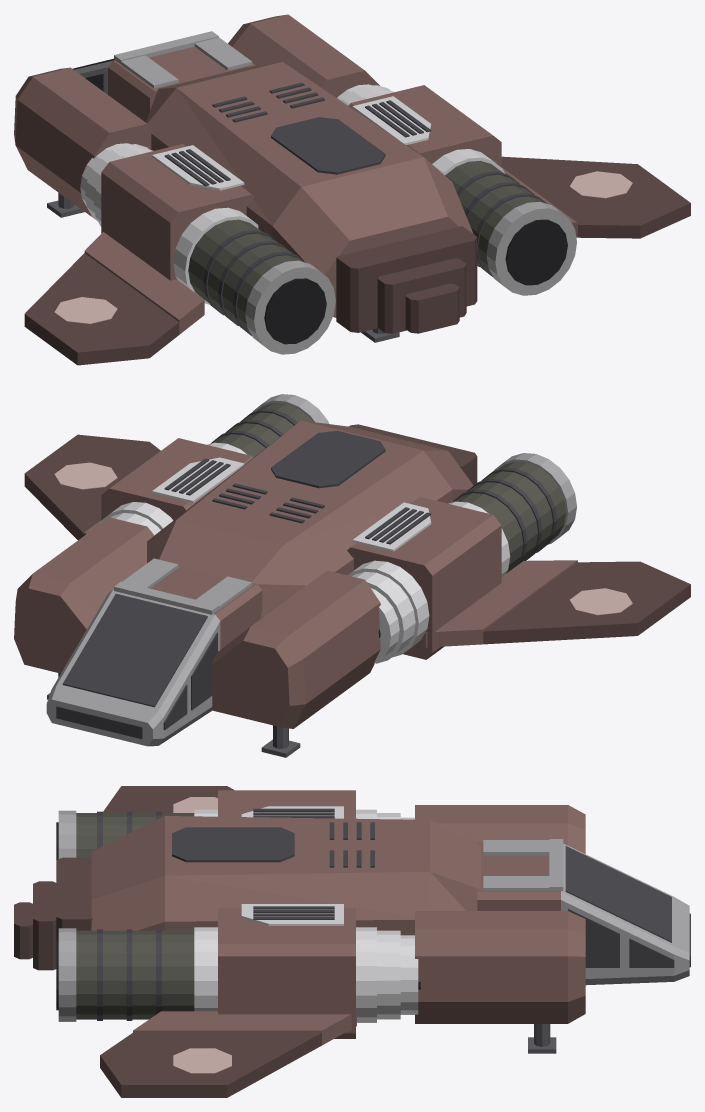
The model's file is vge_salvager_dropship.obj.
3 renders of one model, top to bottom at view 1: azimuth 30°, elevation 25°; view 2: azimuth 150°, elevation 25°; view 3: azimuth 270°, elevation 25°, orthographic.
Visible parts, largest first — view 1: vge_salvager_dropship_0, vge_salvager_dropship_13, vge_salvager_dropship_30, vge_salvager_dropship_44, vge_salvager_dropship_66, vge_salvager_dropship_10, vge_salvager_dropship_14, vge_salvager_dropship_32, vge_salvager_dropship_1, vge_salvager_dropship_52, vge_salvager_dropship_43, vge_salvager_dropship_11 (+20 smaller); view 2: vge_salvager_dropship_0, vge_salvager_dropship_13, vge_salvager_dropship_14, vge_salvager_dropship_30, vge_salvager_dropship_44, vge_salvager_dropship_20, vge_salvager_dropship_16, vge_salvager_dropship_66, vge_salvager_dropship_32, vge_salvager_dropship_43, vge_salvager_dropship_52, vge_salvager_dropship_1 (+21 smaller); view 3: vge_salvager_dropship_0, vge_salvager_dropship_14, vge_salvager_dropship_52, vge_salvager_dropship_66, vge_salvager_dropship_54, vge_salvager_dropship_13, vge_salvager_dropship_16, vge_salvager_dropship_20, vge_salvager_dropship_65, vge_salvager_dropship_1, vge_salvager_dropship_15, vge_salvager_dropship_30 (+23 smaller).
Part boxes in pixels (x1,y1,x2,y2): vge_salvager_dropship_0: [146, 62, 473, 317]; vge_salvager_dropship_13: [14, 67, 154, 216]; vge_salvager_dropship_30: [101, 144, 254, 280]; vge_salvager_dropship_44: [24, 253, 179, 365]; vge_salvager_dropship_66: [501, 156, 690, 238]; vge_salvager_dropship_10: [336, 226, 477, 332]; vge_salvager_dropship_14: [228, 14, 379, 97]; vge_salvager_dropship_32: [188, 219, 302, 332]; vge_salvager_dropship_1: [271, 117, 385, 174]; vge_salvager_dropship_52: [348, 85, 501, 167]; vge_salvager_dropship_43: [84, 232, 204, 334]; vge_salvager_dropship_11: [377, 258, 466, 333]; vge_salvager_dropship_0: [147, 420, 473, 618]; vge_salvager_dropship_13: [212, 570, 380, 728]; vge_salvager_dropship_14: [14, 517, 154, 673]; vge_salvager_dropship_30: [347, 497, 501, 659]; vge_salvager_dropship_44: [483, 561, 690, 644]; vge_salvager_dropship_20: [62, 593, 207, 707]; vge_salvager_dropship_16: [46, 589, 220, 746]; vge_salvager_dropship_66: [24, 434, 160, 539]; vge_salvager_dropship_32: [454, 461, 566, 573]; vge_salvager_dropship_43: [425, 560, 577, 647]; vge_salvager_dropship_52: [101, 438, 253, 520]; vge_salvager_dropship_1: [271, 430, 385, 488]; vge_salvager_dropship_0: [91, 816, 480, 935]; vge_salvager_dropship_14: [415, 911, 585, 1023]; vge_salvager_dropship_52: [218, 908, 355, 1038]; vge_salvager_dropship_66: [100, 1032, 321, 1097]; vge_salvager_dropship_54: [76, 930, 194, 1019]; vge_salvager_dropship_13: [415, 805, 585, 853]; vge_salvager_dropship_16: [561, 843, 689, 985]; vge_salvager_dropship_20: [565, 846, 671, 942]; vge_salvager_dropship_65: [133, 1011, 356, 1045]; vge_salvager_dropship_1: [172, 827, 294, 862]; vge_salvager_dropship_15: [477, 842, 560, 910]; vge_salvager_dropship_30: [218, 790, 355, 818].
Bounding box in the file's own units: 6 × 1.42 × 5.74.
